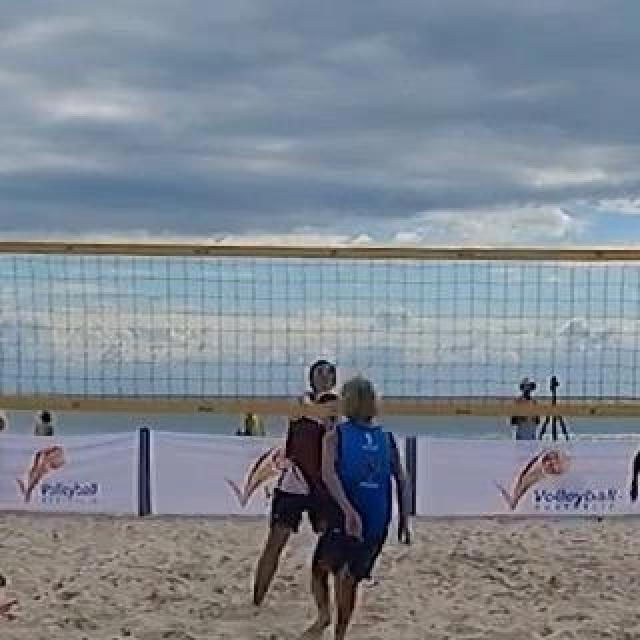volleyball: (314, 389, 344, 423)
